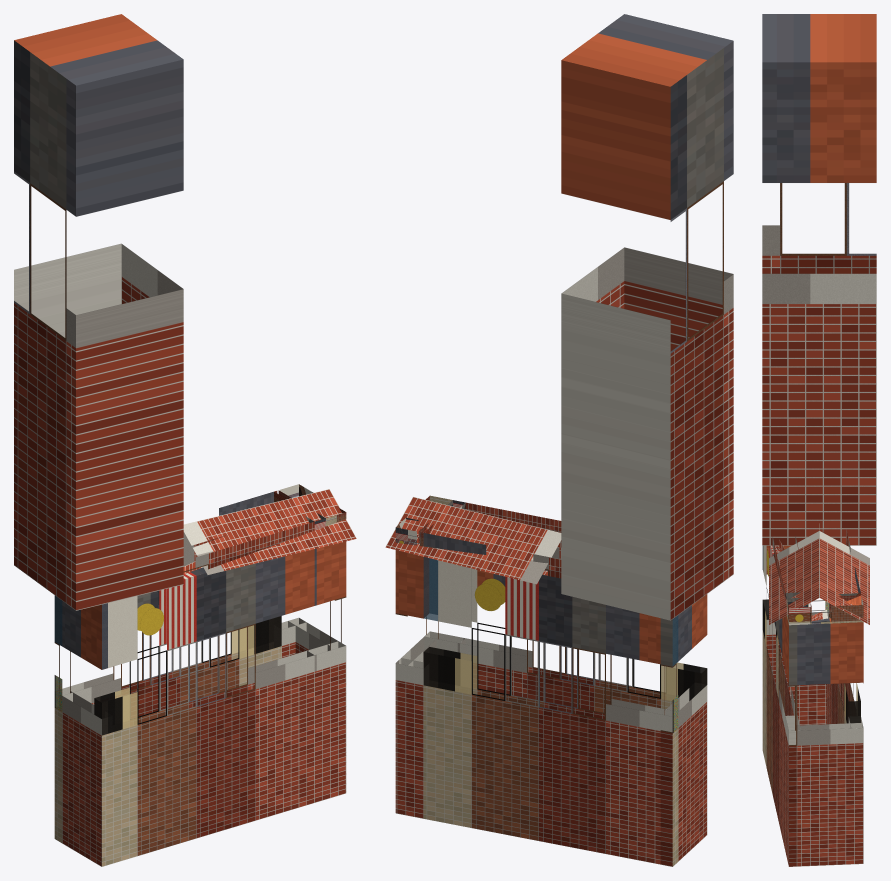
3 renders of one model, left to right at view 1: azimuth 30°, elevation 25°; view 2: azimuth 150°, elevation 25°; view 3: azimuth 270°, elevation 25°, orthographic. The views are drawn at different scales.
Visible parts, largest first — view 1: 238563120__chimney_0_xb, 238563120__wall_1_xb, 238563120__wall_5_xb, 238563120__wall_0_xb, 238563120__wall_2_xb, 238563120_roof_-1_xb, 238563120__cornice_1, 238563120__wall_5_xf, 238563120__wall_1_xf, 238563120__wall_3_xb; view 2: 238563120__chimney_0_xb, 238563120__wall_5_xb, 238563120__wall_0_xb, 238563120__wall_1_xb, 238563120_roof_1_xb, 238563120__wall_4_xb, 238563120__wall_5_xf, 238563120__cornice_5, 238563120__wall_1_xf, 238563120__cornice_1; view 3: 238563120__chimney_0_xb, 238563120__wall_3_xb, 238563120__wall_1_xb, 238563120_roof_-1_xb, 238563120_roof_1_xb, 238563120__wall_0_xb, 238563120__wall_5_xb, 238563120__cornice_3, 238563120__wall_2_xb, 238563120__wall_5_xf, 238563120__cornice_1, 238563120__cornice_2.
Part boxes in pixels (x1,y1,x2,y2): 238563120__chimney_0_xb: [14, 14, 183, 610]; 238563120__wall_1_xb: [94, 549, 314, 866]; 238563120__wall_5_xb: [54, 590, 281, 842]; 238563120__wall_0_xb: [54, 596, 107, 866]; 238563120__wall_2_xb: [307, 541, 346, 802]; 238563120_roof_-1_xb: [183, 489, 356, 574]; 238563120__cornice_1: [183, 519, 314, 577]; 238563120__wall_5_xf: [55, 596, 281, 711]; 238563120__wall_1_xf: [94, 603, 136, 734]; 238563120__wall_3_xb: [288, 596, 346, 653]; 238563120__chimney_0_xb: [561, 14, 733, 620]; 238563120__wall_5_xb: [423, 557, 678, 866]; 238563120__wall_0_xb: [660, 594, 707, 866]; 238563120__wall_1_xb: [460, 570, 707, 712]; 238563120_roof_1_xb: [385, 497, 561, 584]; 238563120__wall_4_xb: [395, 550, 428, 818]; 238563120__wall_5_xf: [424, 557, 677, 732]; 238563120__cornice_5: [423, 533, 561, 578]; 238563120__wall_1_xf: [661, 663, 706, 700]; 238563120__cornice_1: [461, 502, 561, 547]; 238563120__chimney_0_xb: [762, 14, 876, 545]; 238563120__wall_3_xb: [787, 618, 863, 866]; 238563120__wall_1_xb: [762, 545, 797, 851]; 238563120_roof_-1_xb: [769, 531, 819, 624]; 238563120_roof_1_xb: [819, 531, 869, 624]; 238563120__wall_0_xb: [765, 545, 838, 725]; 238563120__wall_5_xb: [825, 601, 860, 724]; 238563120__cornice_3: [786, 595, 863, 625]; 238563120__wall_2_xb: [785, 616, 800, 866]; 238563120__wall_5_xf: [826, 602, 860, 722]; 238563120__cornice_1: [771, 536, 800, 600]; 238563120__cornice_2: [785, 594, 811, 624].
Bounding box in the file's own units: 0.3968 × 1.05 × 0.15.
Materials: 1 (1 with a texture image).
